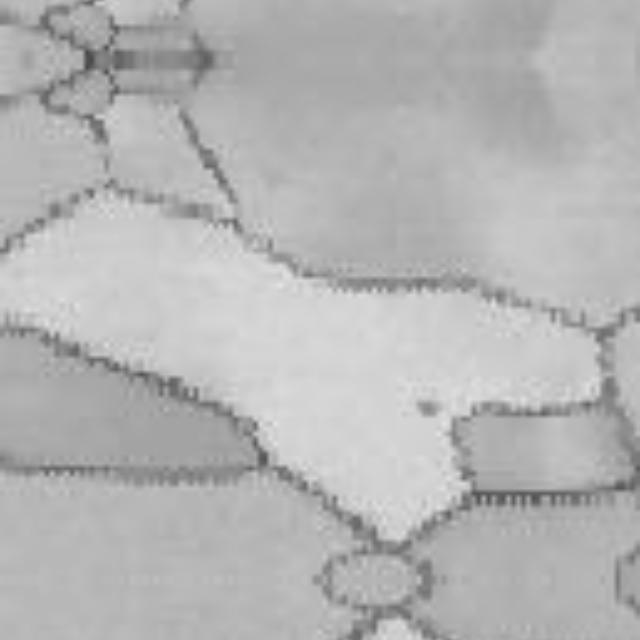good_void: (416, 394, 446, 419)
